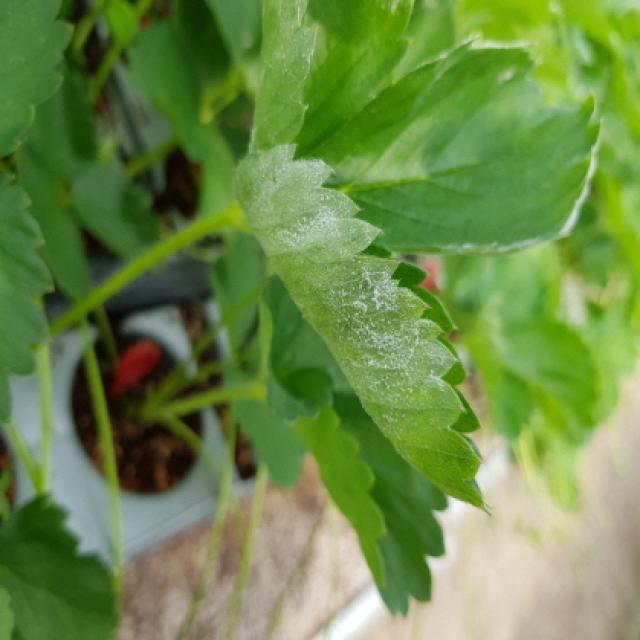powdery_mildew_leaf: (232, 142, 492, 516), (301, 33, 603, 255), (247, 0, 414, 158)
